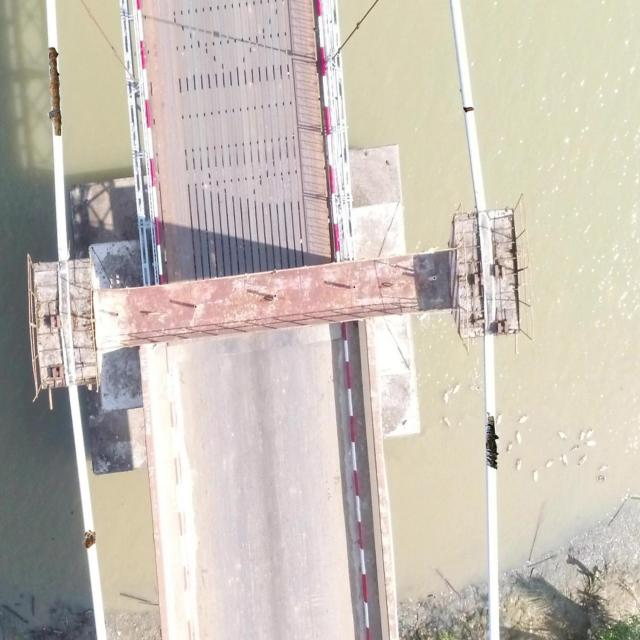corrosion: (48, 46, 62, 136), (486, 412, 498, 470), (82, 530, 96, 548), (463, 107, 474, 113)
